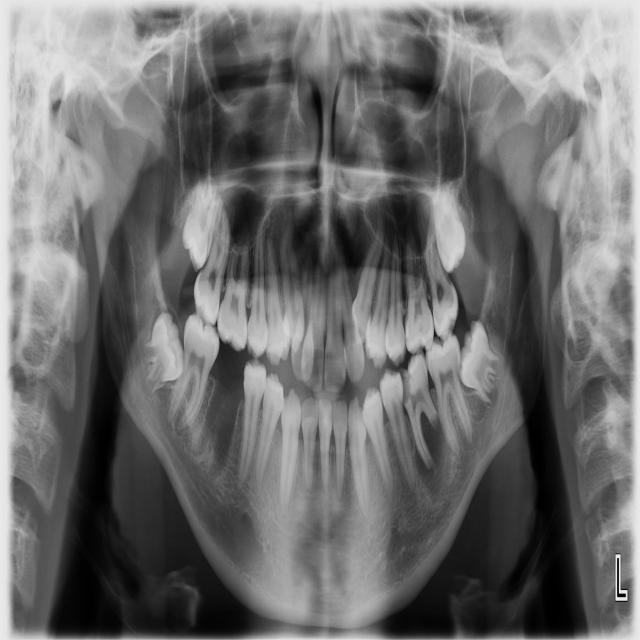mandibula: (73, 81, 574, 626)
